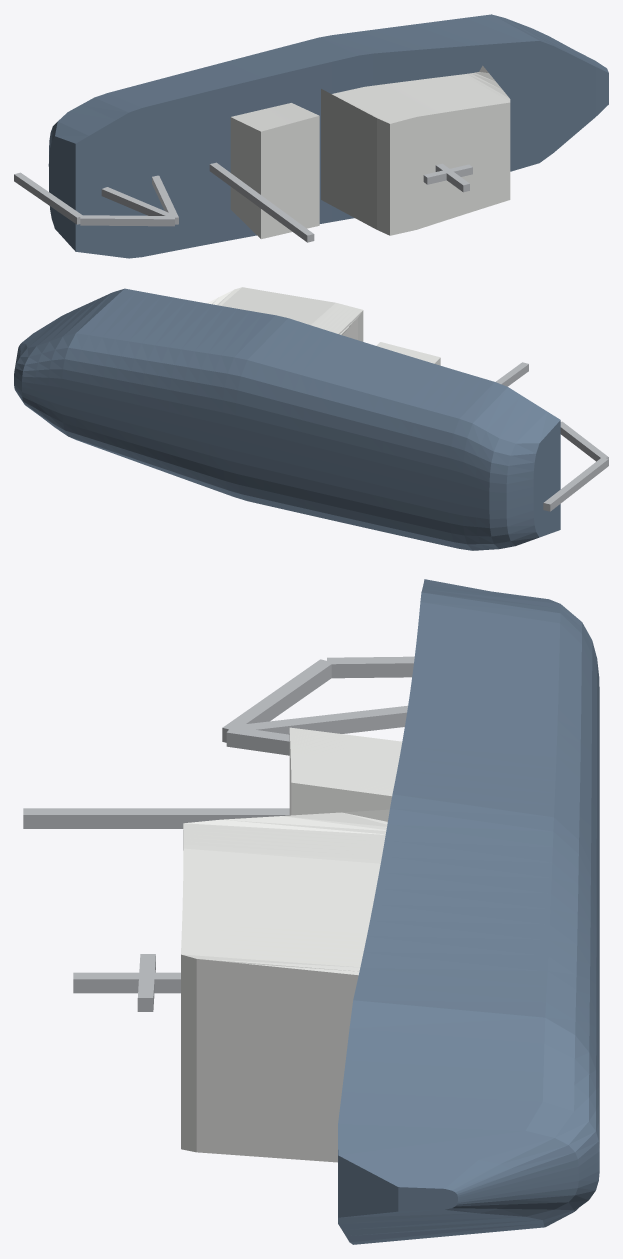
File: mine-clearance-loft-highside.glb
The picture shows the model from 3 angles, top to bottom: view 1: azimuth 30°, elevation 25°; view 2: azimuth 150°, elevation 25°; view 3: azimuth 270°, elevation 25°; orthographic projection. The views are drawn at different scales.
Parts seen in each view (by area): view 1: mine-clearance-loft-highside; view 2: mine-clearance-loft-highside; view 3: mine-clearance-loft-highside.
Boxes of the visible parts, x1=… form: mine-clearance-loft-highside: x1=14, y1=14, x2=608, y2=258; mine-clearance-loft-highside: x1=14, y1=287, x2=608, y2=550; mine-clearance-loft-highside: x1=23, y1=579, x2=599, y2=1244.
Size of the model in its own units: 1.96 by 0.5509 by 0.8896.
